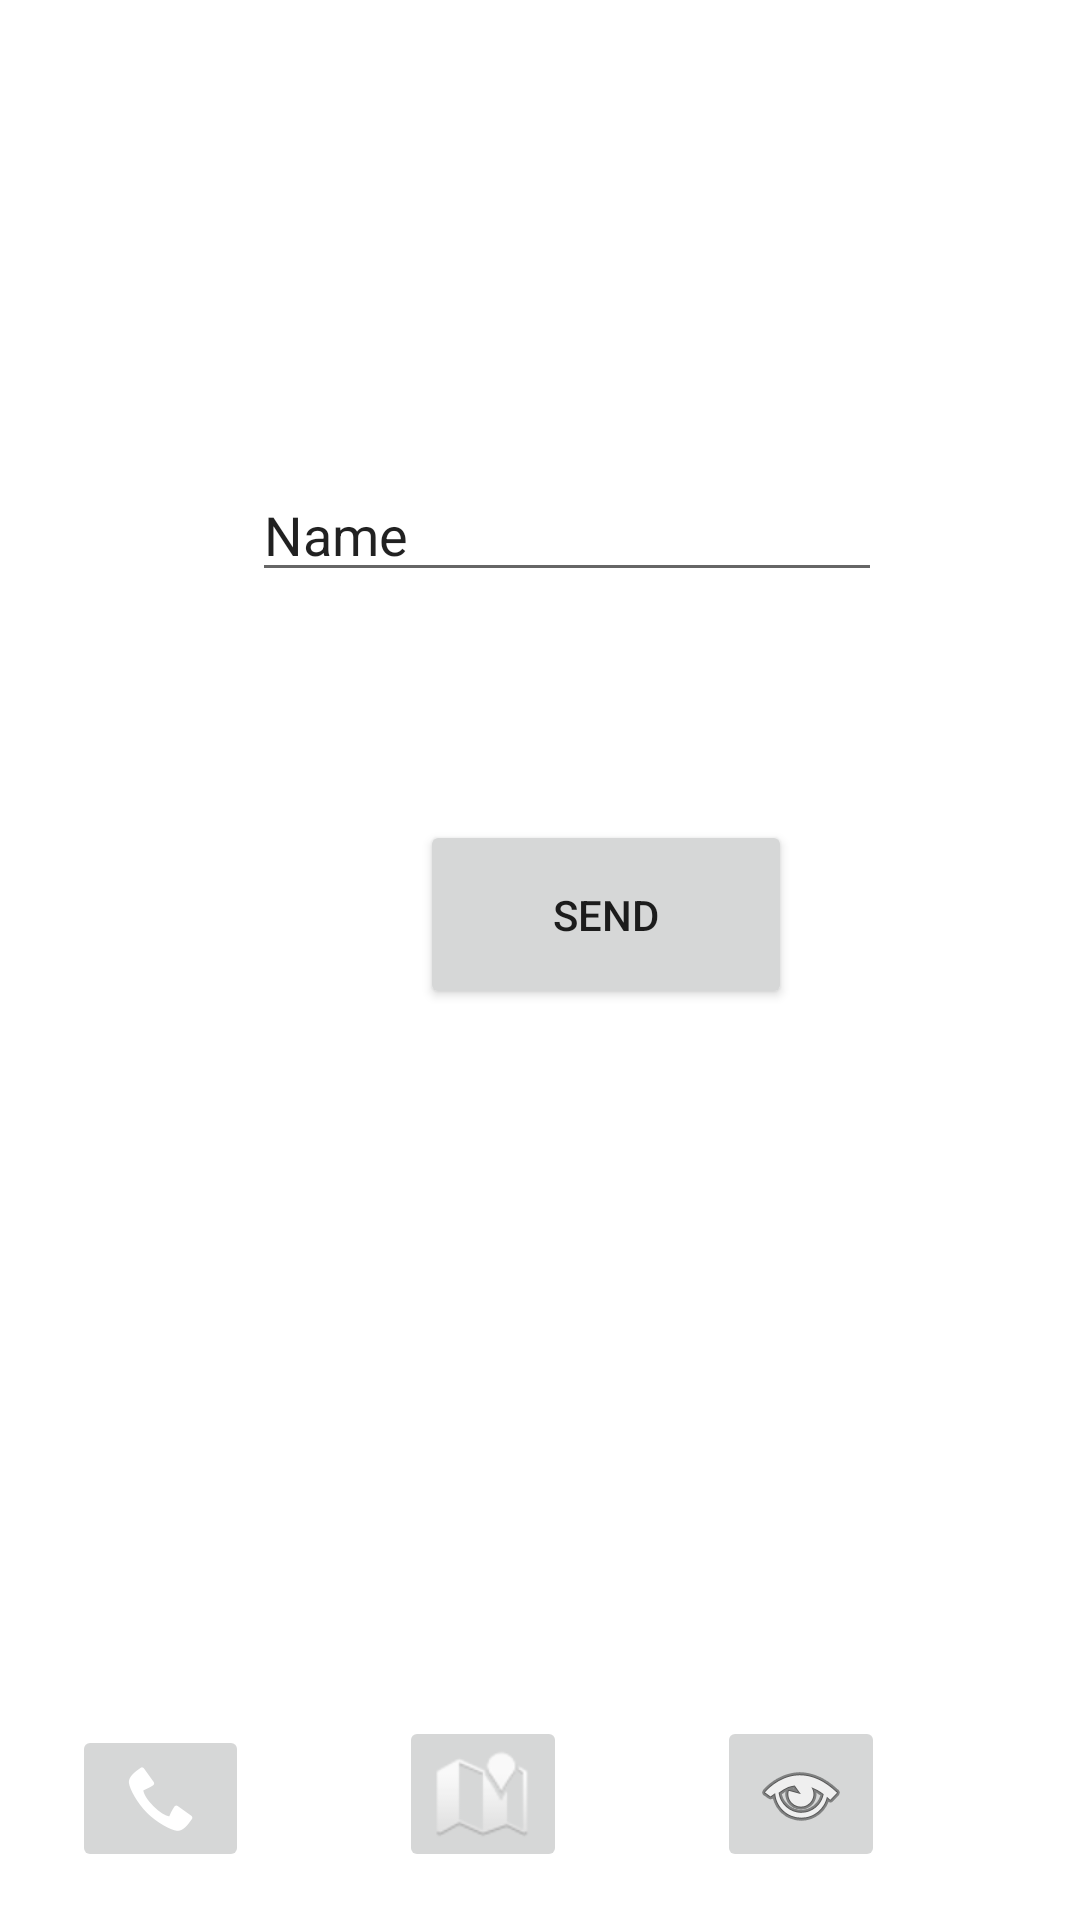

Icon click points for this 1080px x 1920px phone screenshot, format point (x, y):
Call: point (160, 1798)
Map: point (483, 1794)
